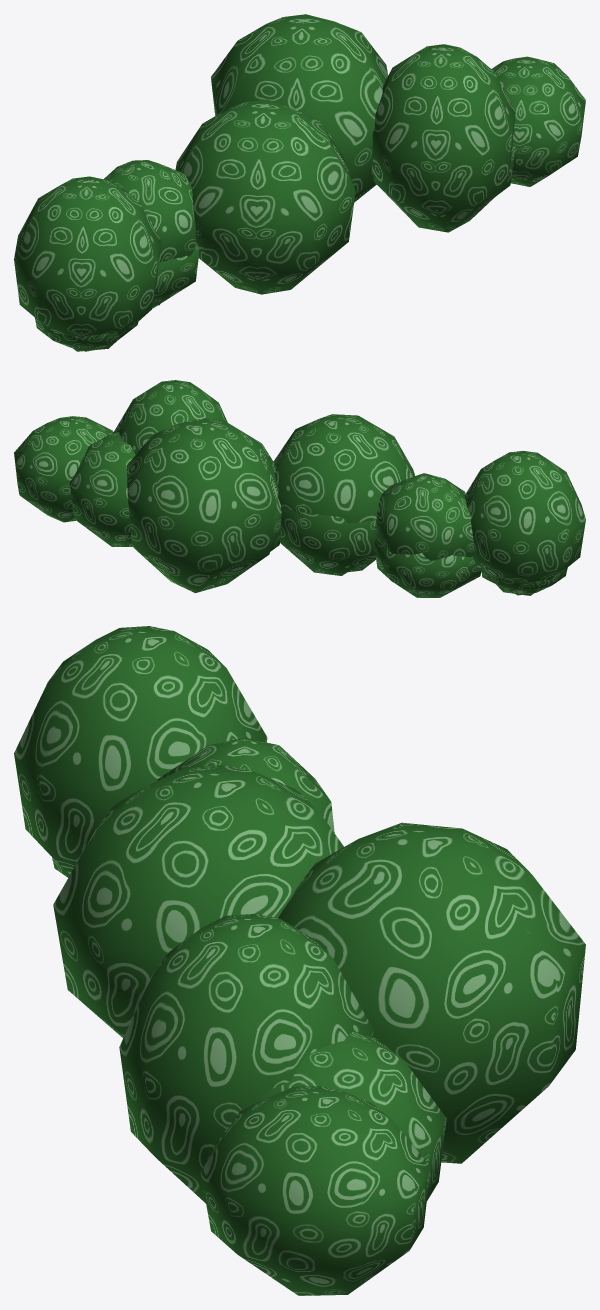
The model's file is S_Tree_MM.fbx.
3 views of the same model, one above another, from view 1: azimuth 30°, elevation 25°; view 2: azimuth 150°, elevation 25°; view 3: azimuth 270°, elevation 25° (orthographic). The views are drawn at different scales.
Parts seen in each view (by area): view 1: chaochong_02, caochong_01; view 2: chaochong_02, caochong_01; view 3: chaochong_02, caochong_01.
Part boxes in pixels (x1=…): chaochong_02: x1=14, y1=14, x2=515, y2=351; caochong_01: x1=34, y1=44, x2=585, y2=351; chaochong_02: x1=69, y1=414, x2=585, y2=595; caochong_01: x1=14, y1=380, x2=567, y2=597; chaochong_02: x1=14, y1=626, x2=585, y2=1201; caochong_01: x1=52, y1=857, x2=430, y2=1295.
Size of the model in its own units: 88.96 by 26.7 by 43.82.
